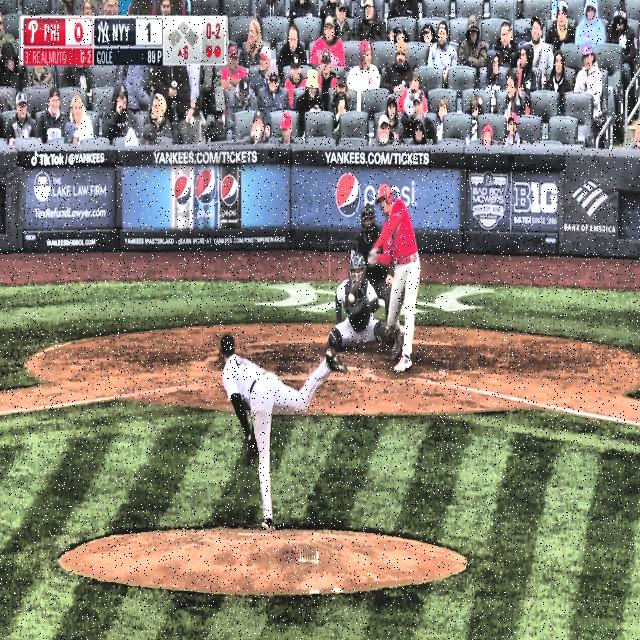baseball: (348, 294, 355, 304)
